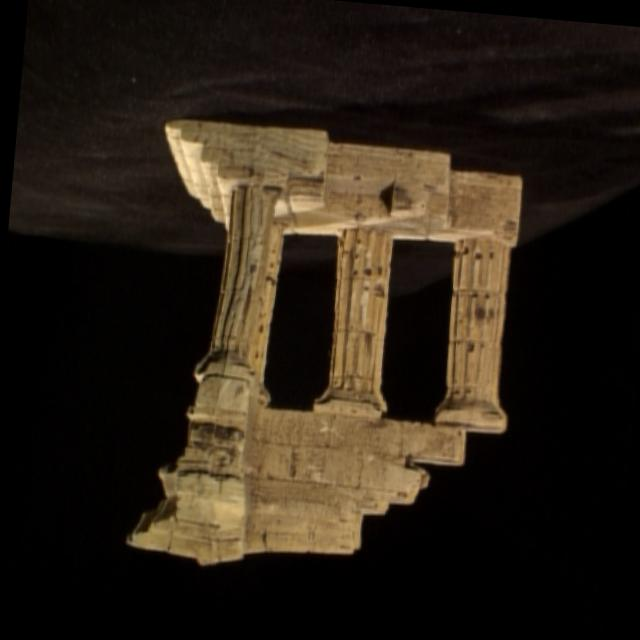Instance-Segmentation: (127, 119, 519, 563)
